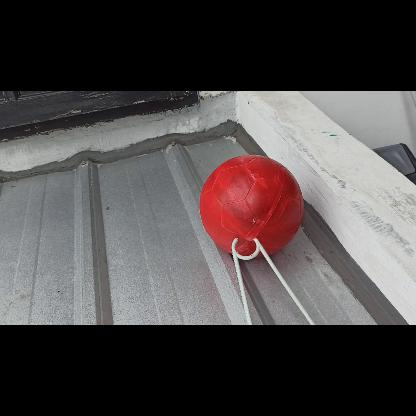red_ball: (199, 154, 304, 260)
